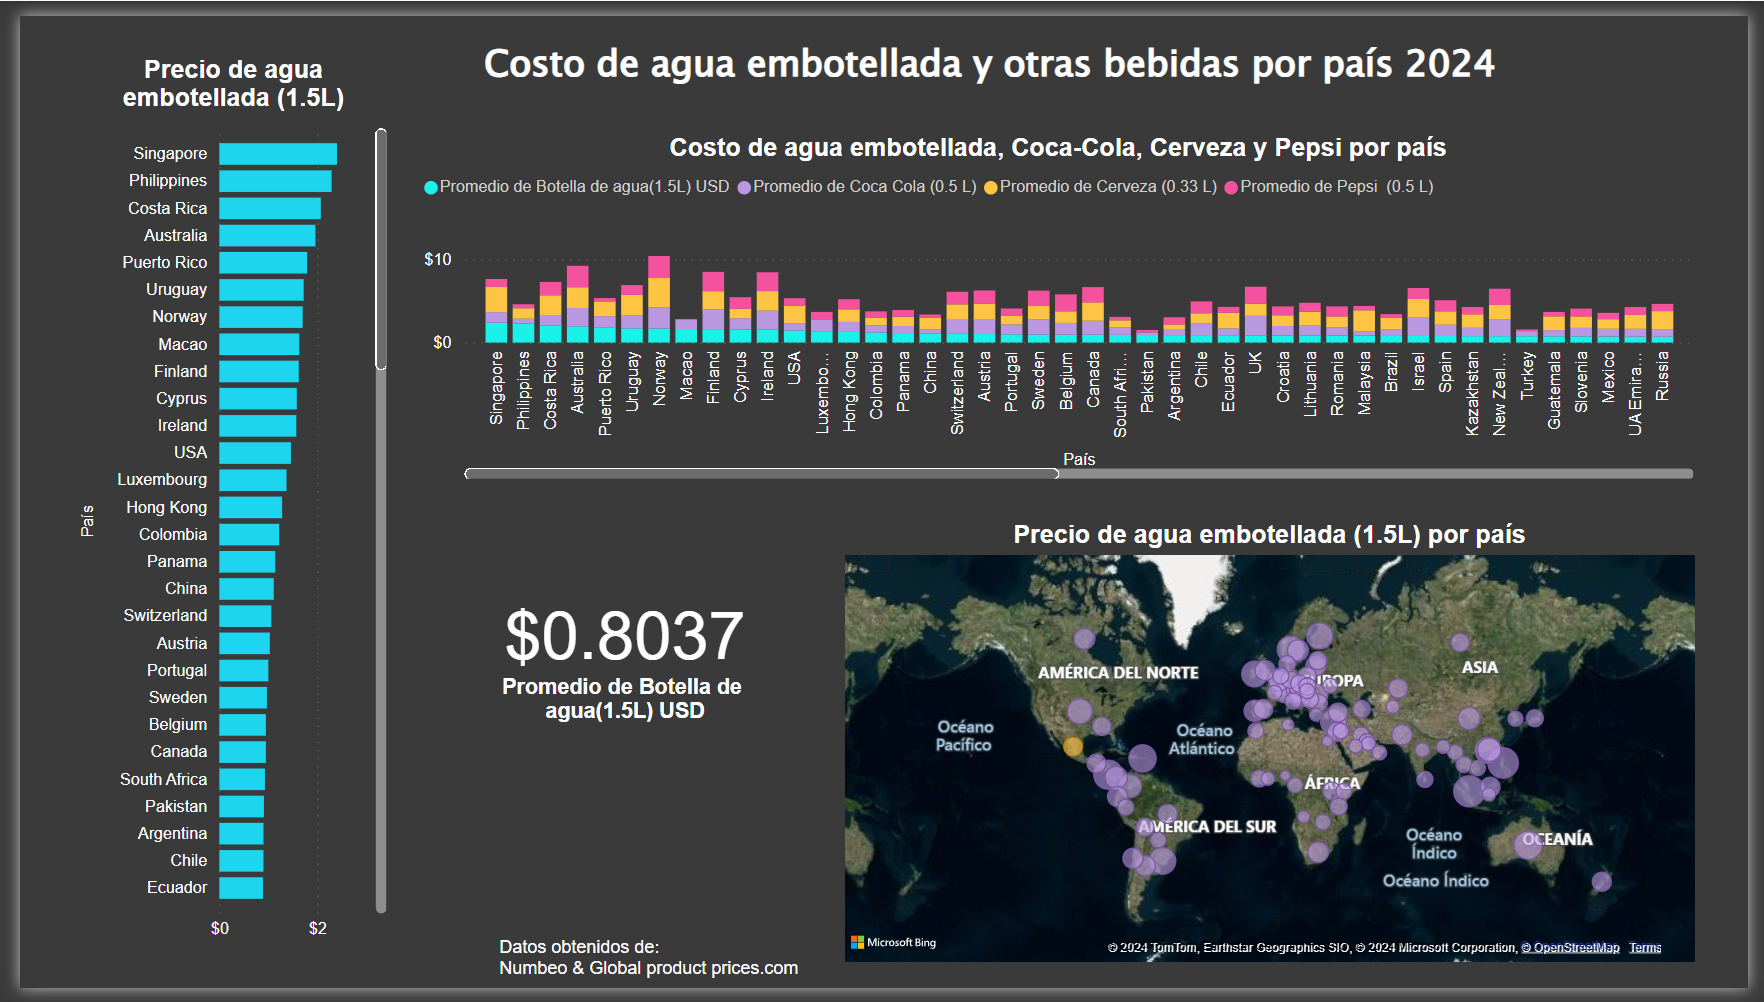

The page's visual inventory and layout, read from the dashboard file:
{"tool":"powerbi","page":{"name":"BEBIDAS_PAIS","canvas":[1280,720],"ordinal":0},"visuals":[{"type":"map","title":"Precio de agua embotellada (1.5L) por país","fields":{"Category":["T1 aguaemb_p.País"],"Size":["Avg(T1 aguaemb_p.Botella de agua(1.5L))"]},"box":[456.7,361.7,796.7,345],"z":0},{"type":"barChart","title":"Precio de agua embotellada (1.5L)","fields":{"Category":["T1 aguaemb_p.País"],"Y":["Avg(T1 aguaemb_p.Botella de agua(1.5L))"]},"box":[30,30,236.7,663.3],"z":1000},{"type":"lineStackedColumnComboChart","title":"Costo de agua embotellada, Coca-Cola, Cerveza y  Pepsi por país","fields":{"Category":["T2 coca_p.País"],"Y":["Avg(T1 aguaemb_p.Botella de agua(1.5L))","Avg(T2 coca_p.Coca Cola (0.5 L))","Avg(T4 cerveza_p.Cerveza (0.33 L))","Avg(T3 pepsi_p.Pepsi price 0.5 L)"]},"box":[301.7,76.7,951.7,261.7],"z":2000},{"type":"card","fields":{"Values":["Avg(T1 aguaemb_p.Botella de agua(1.5L))"]},"box":[278.3,396.7,178.3,208.3],"z":3000},{"type":"textbox","box":[316.7,0,865,58.3],"z":4000}]}

Visuals, with their boxes in screenshot pixels (x1, y1, x2, y2), scaled from the page's 1280x720 canvas onto the 1764x1002 screenshot:
"Precio de agua embotellada (1.5L) por país" map: Rect(629, 503, 1727, 983)
"Precio de agua embotellada (1.5L)" barChart: Rect(41, 42, 368, 965)
"Costo de agua embotellada, Coca-Cola, Cerveza y  Pepsi por país" lineStackedColumnComboChart: Rect(416, 107, 1727, 471)
card - Avg(T1 aguaemb_p.Botella de agua(1.5L)): Rect(384, 552, 629, 842)
textbox: Rect(436, 0, 1629, 81)
